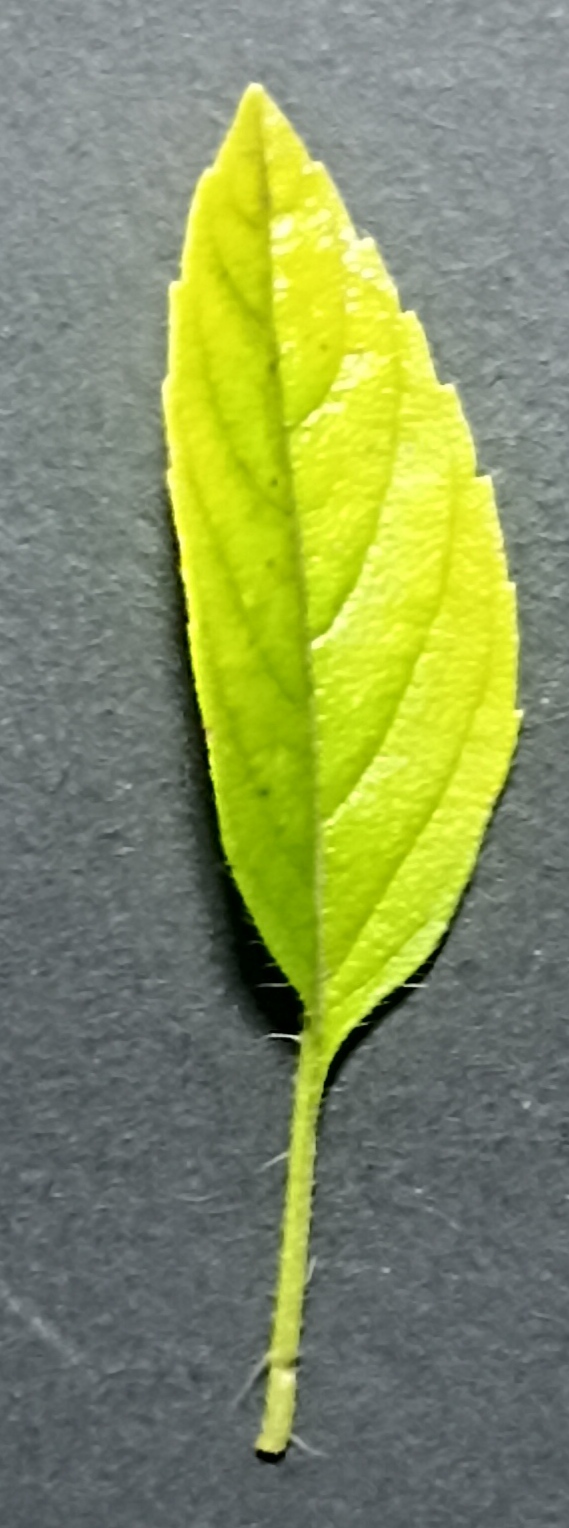Healthy: (144, 66, 537, 1090)
